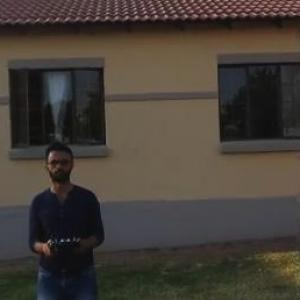follow: (24, 134, 110, 299)
